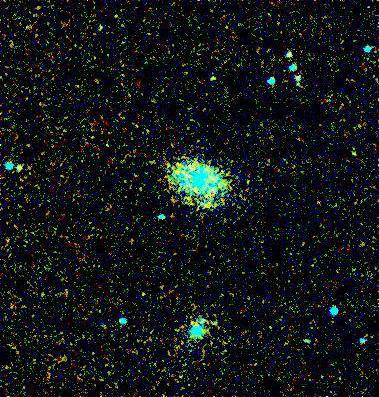star: (204, 69, 234, 99)
